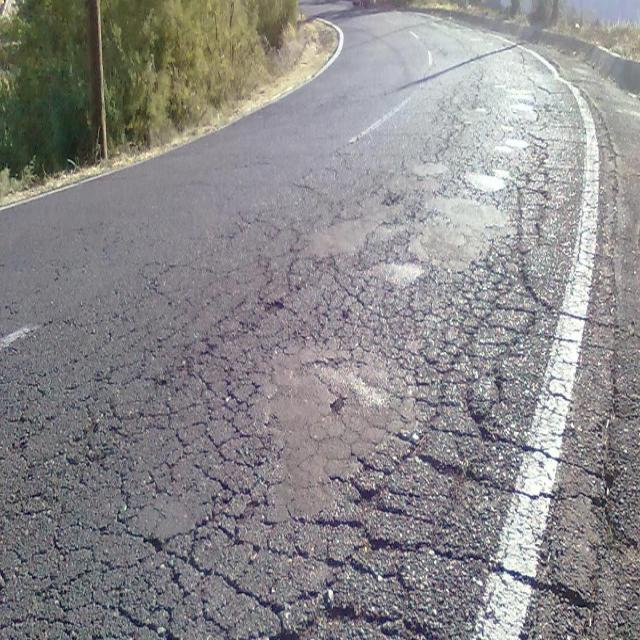Drain Hole: (49, 285, 640, 640)
